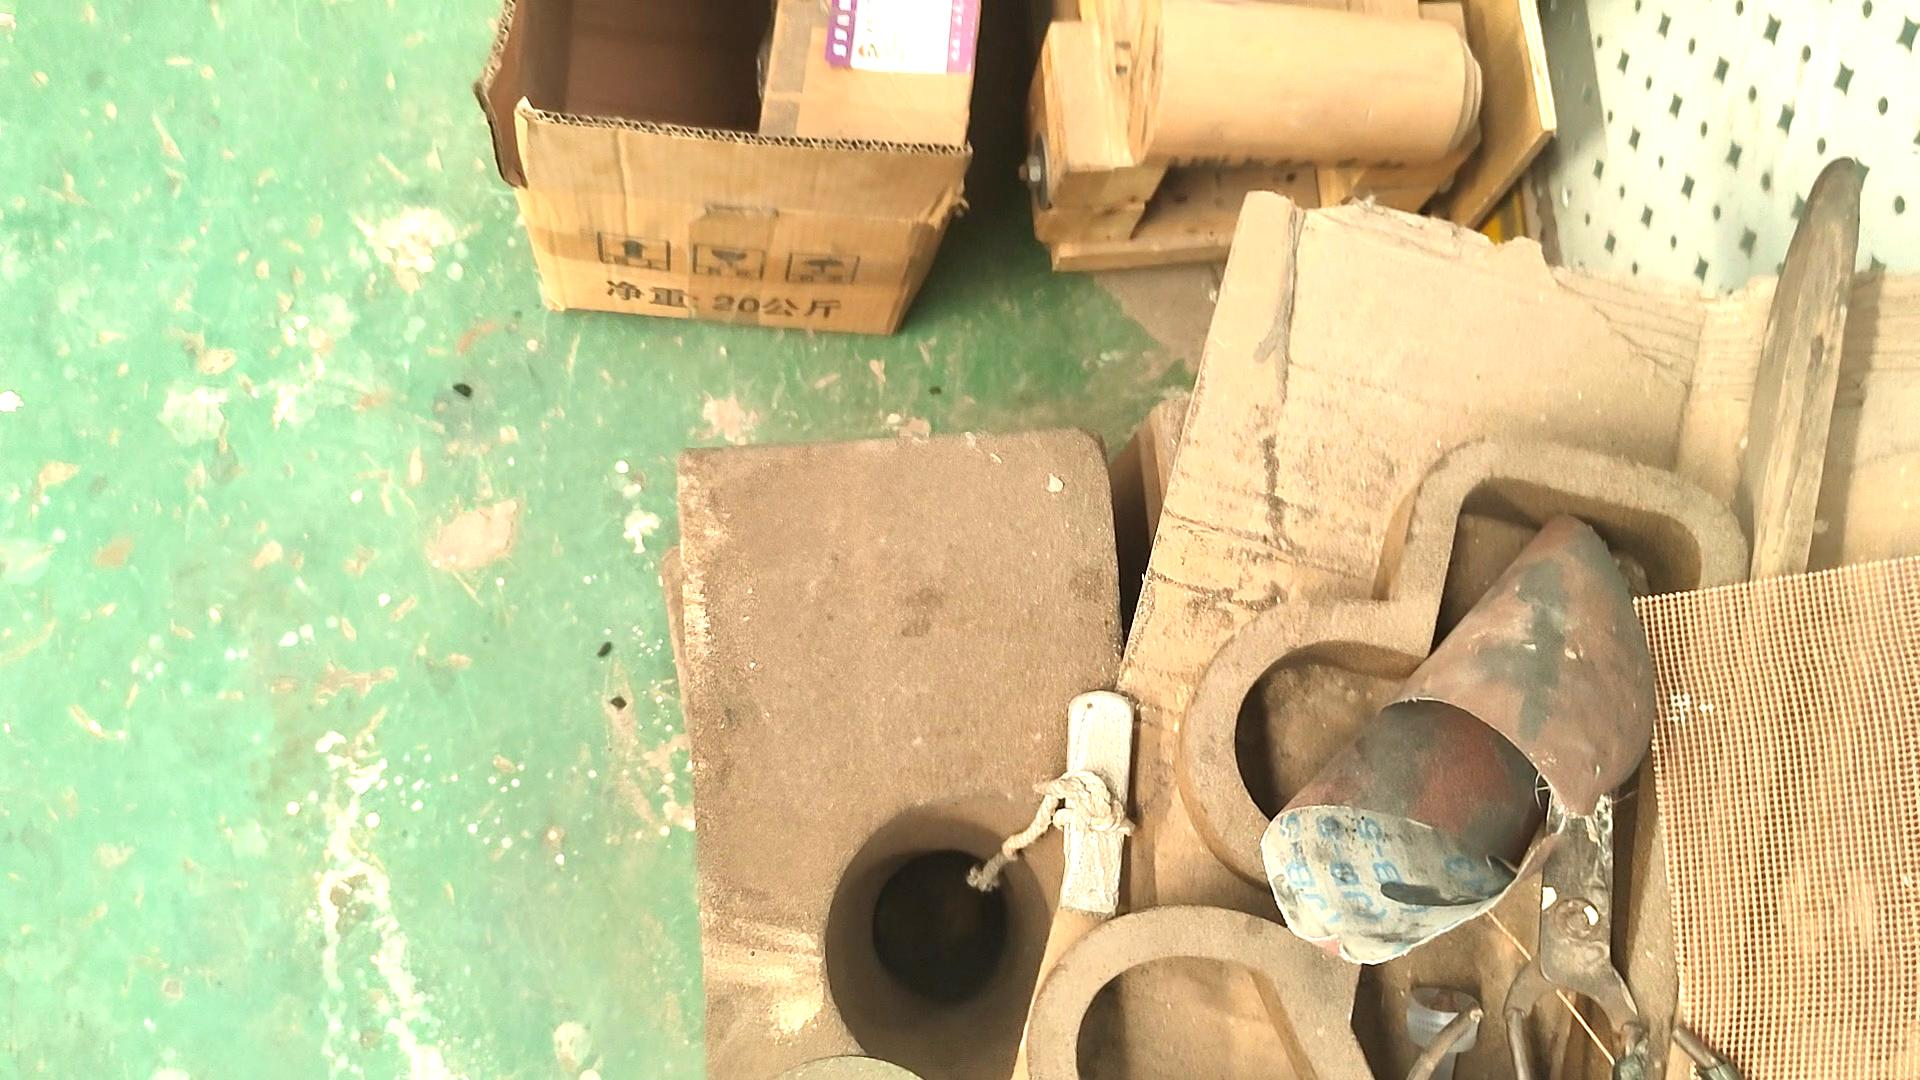pouring hole: (824, 793, 1110, 1080)
